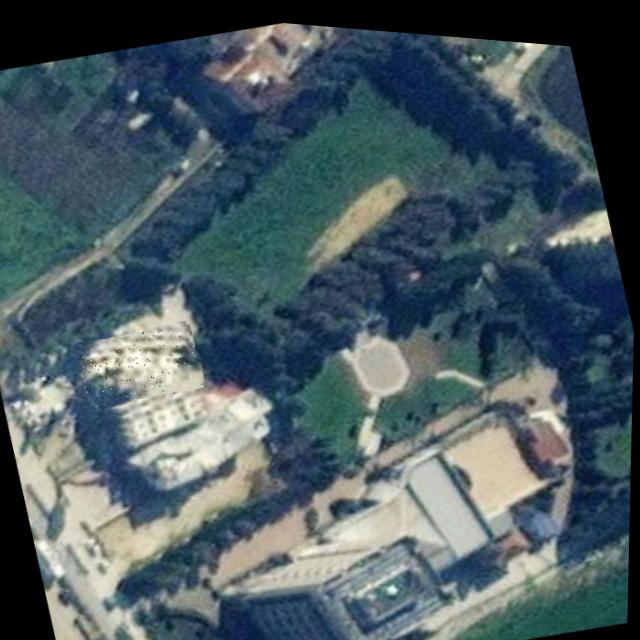Rubble: (74, 311, 207, 414)
